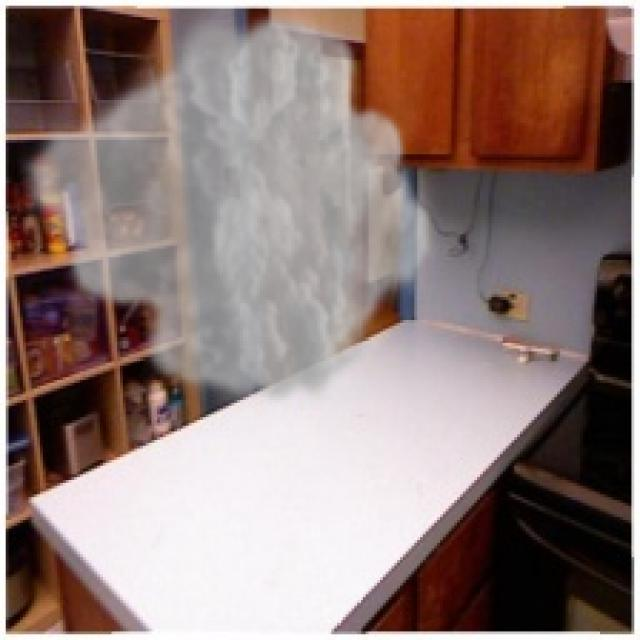smoke: (17, 3, 437, 411)
